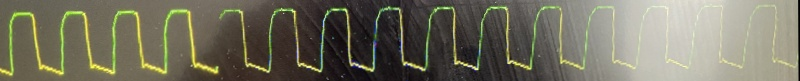normal_pressure: (0, 0, 788, 81)
